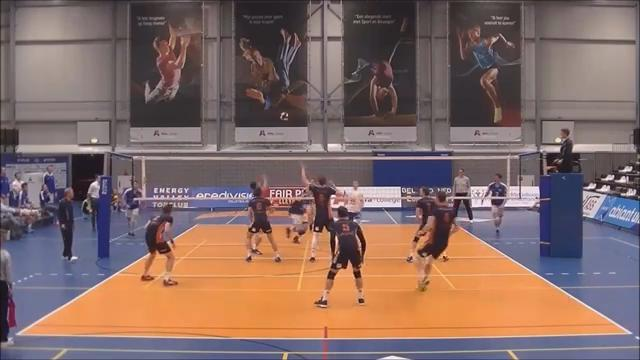Player: (315, 206, 365, 307), (416, 192, 456, 290), (301, 166, 336, 261), (141, 204, 177, 285), (245, 187, 280, 261), (406, 187, 436, 262), (482, 173, 507, 234), (123, 181, 142, 237), (286, 200, 306, 243), (345, 181, 364, 222), (303, 188, 314, 230), (250, 175, 269, 196)
ball: (279, 110, 288, 123)
